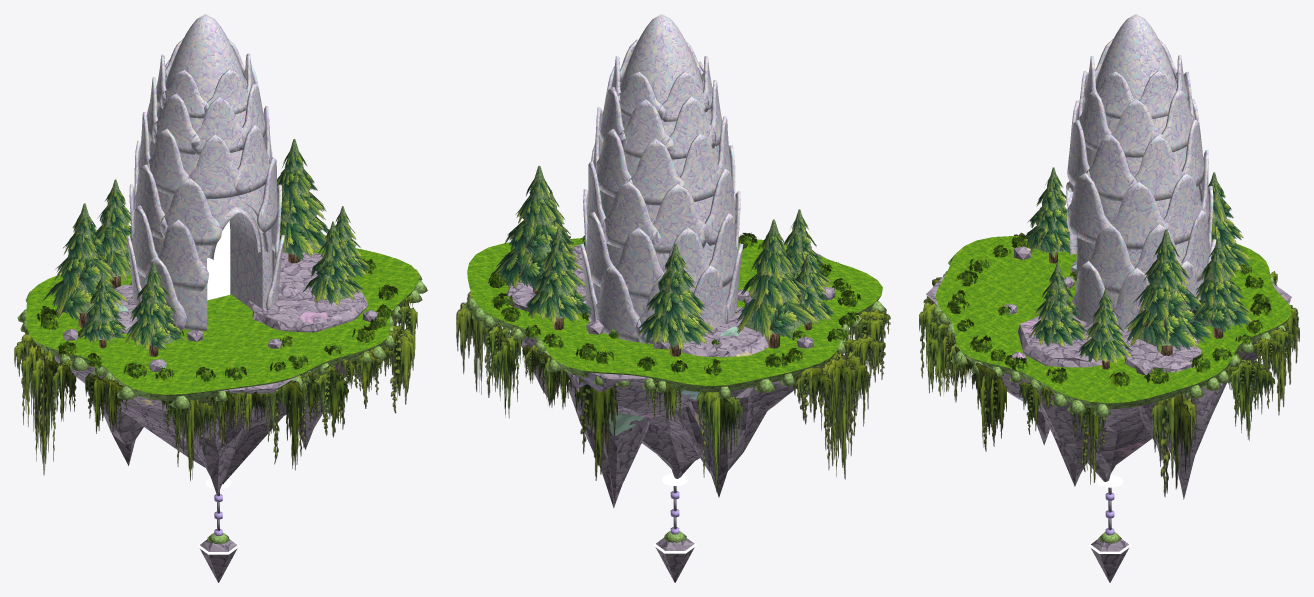
Rendered from AlienIsland.glb.
3 renders of one model, left to right at view 1: azimuth 30°, elevation 25°; view 2: azimuth 150°, elevation 25°; view 3: azimuth 270°, elevation 25°, orthographic. The views are drawn at different scales.
Parts seen in each view (by area): view 1: AI_SpireBody, AI_Grass, AI_HangingMoss, AI_PineNeedles, AI_Rock, AI_MossBushes, AI_Portal; view 2: AI_SpireBody, AI_Grass, AI_PineNeedles, AI_HangingMoss, AI_Rock, AI_MossBushes, AI_Overlay_Rock; view 3: AI_SpireBody, AI_Grass, AI_PineNeedles, AI_HangingMoss, AI_Rock, AI_MossBushes.
Boxes of the visible parts, x1,y1,x2,y2 form: AI_SpireBody: [126, 14, 284, 330]; AI_Grass: [17, 139, 427, 543]; AI_HangingMoss: [14, 296, 417, 480]; AI_PineNeedles: [43, 151, 369, 350]; AI_Rock: [54, 252, 378, 582]; AI_MossBushes: [36, 258, 397, 382]; AI_Portal: [198, 221, 239, 554]; AI_SpireBody: [580, 14, 743, 343]; AI_Grass: [464, 165, 886, 542]; AI_PineNeedles: [493, 179, 834, 349]; AI_HangingMoss: [456, 236, 890, 492]; AI_Rock: [506, 243, 835, 582]; AI_MossBushes: [488, 232, 860, 375]; AI_Overlay_Rock: [577, 287, 829, 435]; AI_SpireBody: [1066, 14, 1216, 330]; AI_Grass: [930, 167, 1291, 543]; AI_PineNeedles: [1021, 175, 1252, 363]; AI_HangingMoss: [919, 232, 1299, 497]; AI_Rock: [926, 246, 1291, 582]; AI_MossBushes: [947, 235, 1271, 386].
Size of the model in its own units: 20.95 by 28.9 by 17.54.
11 materials, 9 textured.
